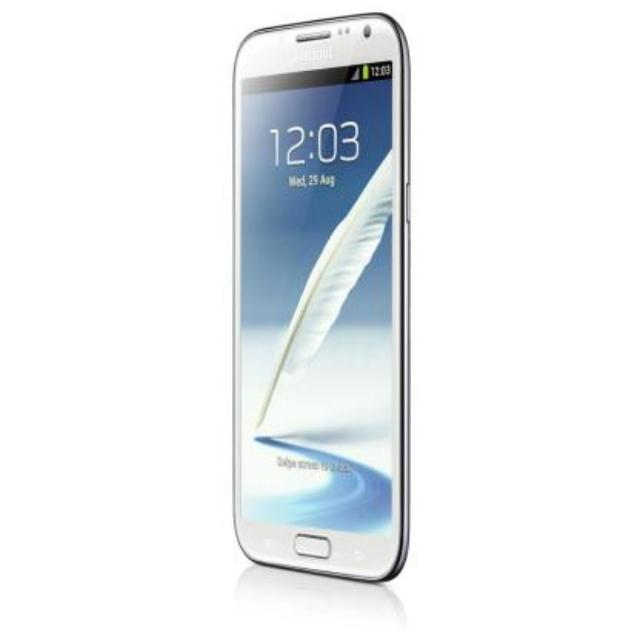Smartphone: (216, 17, 424, 591)
